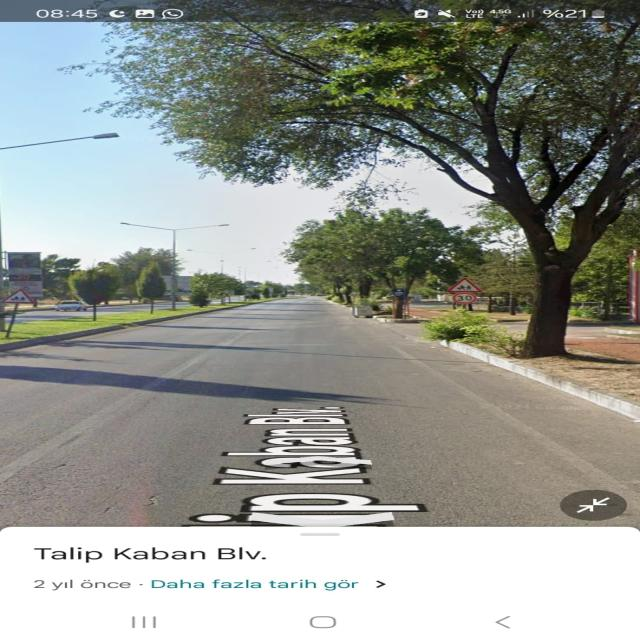okul_gecidi: (445, 277, 484, 293), (0, 288, 36, 304)
